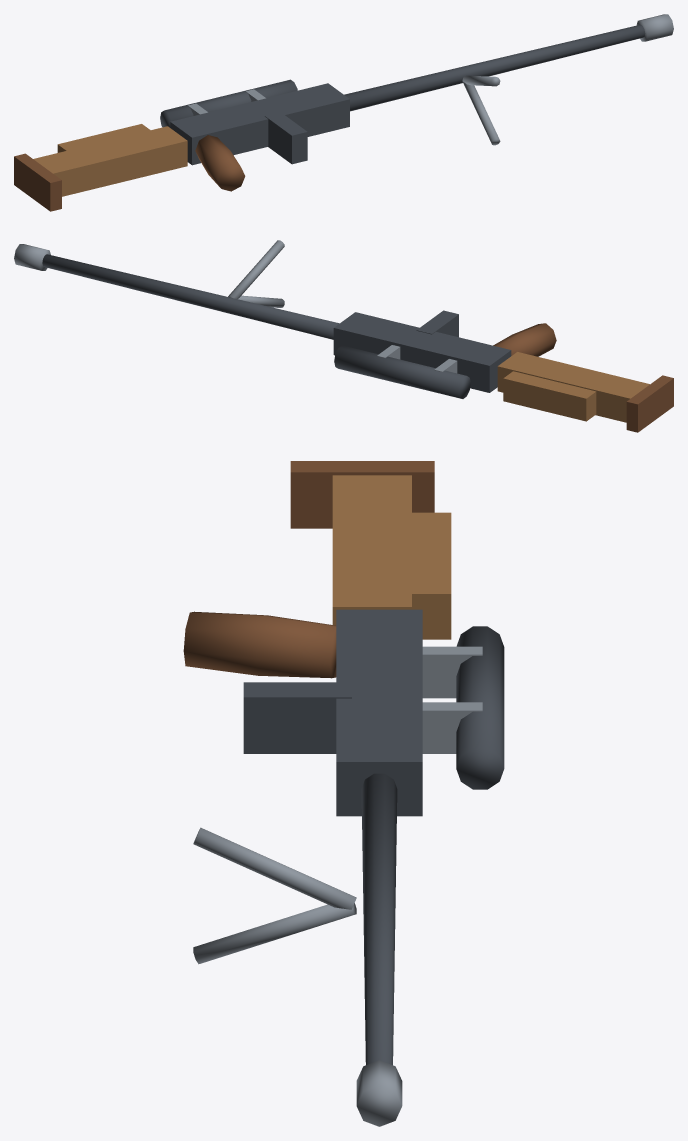
The model's file is weapon_sniper.glb.
The picture shows the model from 3 angles, top to bottom: view 1: azimuth 30°, elevation 25°; view 2: azimuth 150°, elevation 25°; view 3: azimuth 270°, elevation 25°; orthographic projection. The views are drawn at different scales.
Visible parts, largest first — view 1: receiver, stock, barrel, butt, grip, scope, mag, comb, muzzle, leg0, leg1; view 2: receiver, barrel, stock, scope, comb, butt, grip, leg1, mag, muzzle, leg0; view 3: receiver, stock, barrel, grip, mag, scope, butt, comb, leg1, leg0, muzzle, ring40 (+1 smaller).
Part boxes in pixels (box(x1,y1,x2,y2)): receiver: box(170, 83, 349, 165); stock: box(33, 126, 187, 196); barrel: box(344, 24, 645, 111); butt: box(14, 153, 61, 211); grip: box(195, 135, 245, 191); scope: box(160, 79, 297, 127); mag: box(265, 112, 307, 164); comb: box(57, 124, 150, 152); muzzle: box(636, 14, 673, 41); leg0: box(462, 81, 500, 145); leg1: box(462, 75, 500, 86); receiver: box(333, 312, 511, 392); barrel: box(42, 254, 339, 339); stock: box(497, 352, 649, 422); scope: box(334, 345, 470, 398); comb: box(503, 371, 596, 421); butt: box(626, 375, 673, 432); grip: box(493, 323, 556, 356); leg1: box(228, 240, 284, 298); mag: box(416, 310, 458, 337); muzzle: box(14, 244, 50, 270); leg0: box(238, 295, 284, 307); receiver: box(336, 609, 422, 816); stock: box(332, 475, 411, 625); barrel: box(361, 773, 397, 1064); grip: box(183, 611, 336, 678); mag: box(243, 682, 351, 753); scope: box(456, 626, 504, 789); butt: box(290, 461, 434, 528); comb: box(412, 512, 451, 639); leg1: box(193, 827, 356, 909); leg0: box(193, 903, 356, 964); muzzle: box(356, 1060, 402, 1126); ring40: box(422, 646, 482, 698).
Bounding box in the file's own units: 1.22 × 0.1248 × 0.2671.
